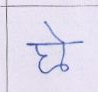o_matra: (55, 29, 69, 70)
